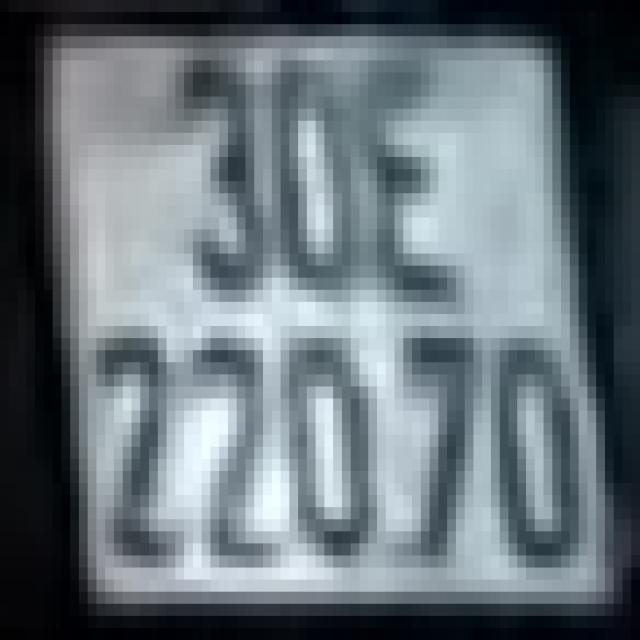0: (491, 338, 587, 568), (281, 326, 377, 556), (272, 60, 359, 290)
2: (88, 326, 193, 568), (193, 338, 280, 568)
3: (175, 48, 272, 302)
7: (394, 326, 474, 556)
E: (368, 60, 465, 302)
